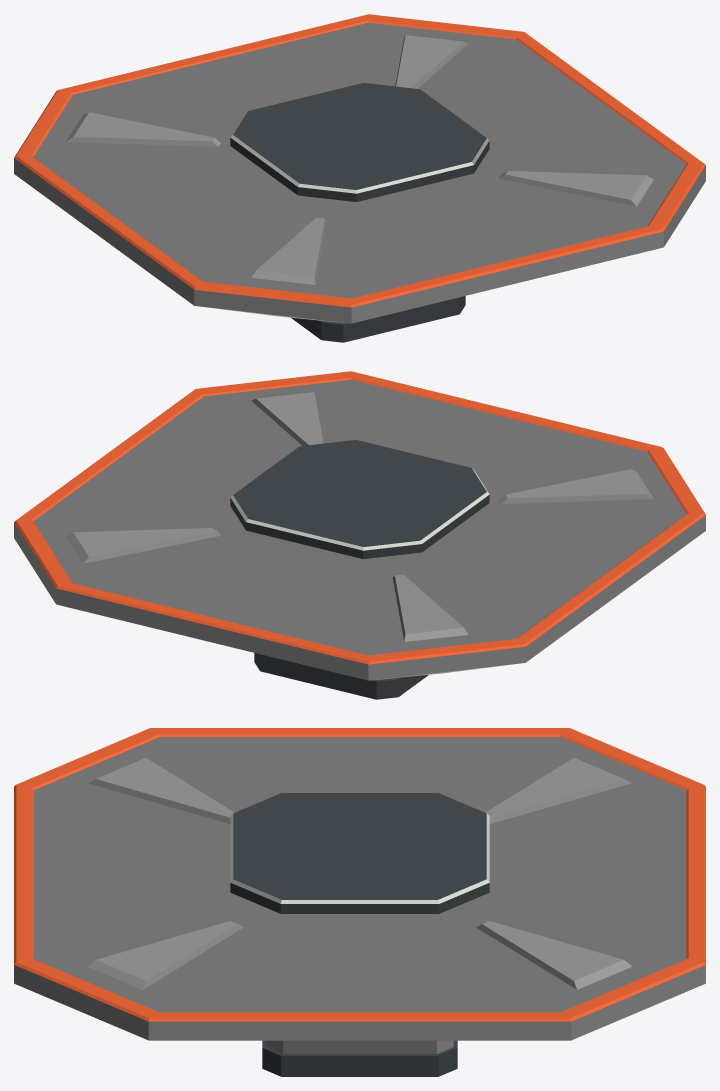
The model's file is Table_dinner_01.glb.
3 views of the same model, one above another, from view 1: azimuth 30°, elevation 25°; view 2: azimuth 150°, elevation 25°; view 3: azimuth 270°, elevation 25° (orthographic). The views are drawn at different scales.
Visible parts, largest first — view 1: Table_dinner_01; view 2: Table_dinner_01; view 3: Table_dinner_01.
Boxes of the visible parts, x1,y1,x2,y2 form: Table_dinner_01: (14,14,705,342); Table_dinner_01: (14,371,705,699); Table_dinner_01: (14,728,705,1076).
Size of what is drawn, in the model's own units: 4.44 by 1.34 by 4.44.
1 material, 1 textured.
